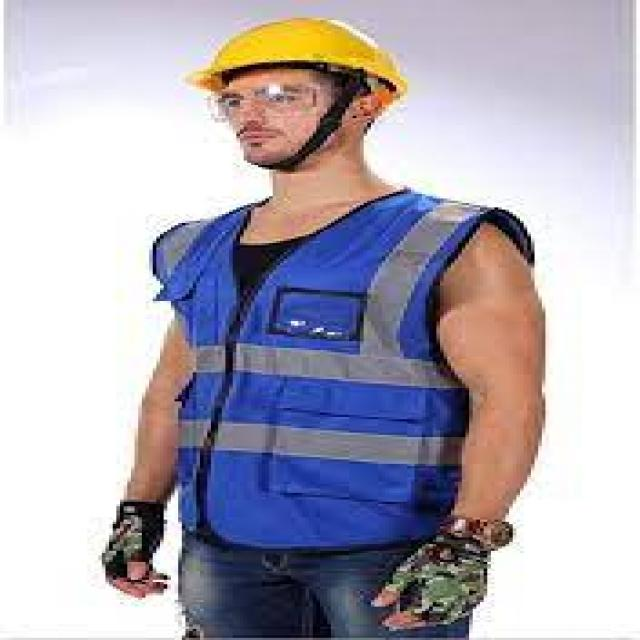Reflective-Jacket: (138, 193, 559, 564)
Safety-Helmet: (182, 11, 418, 100)
